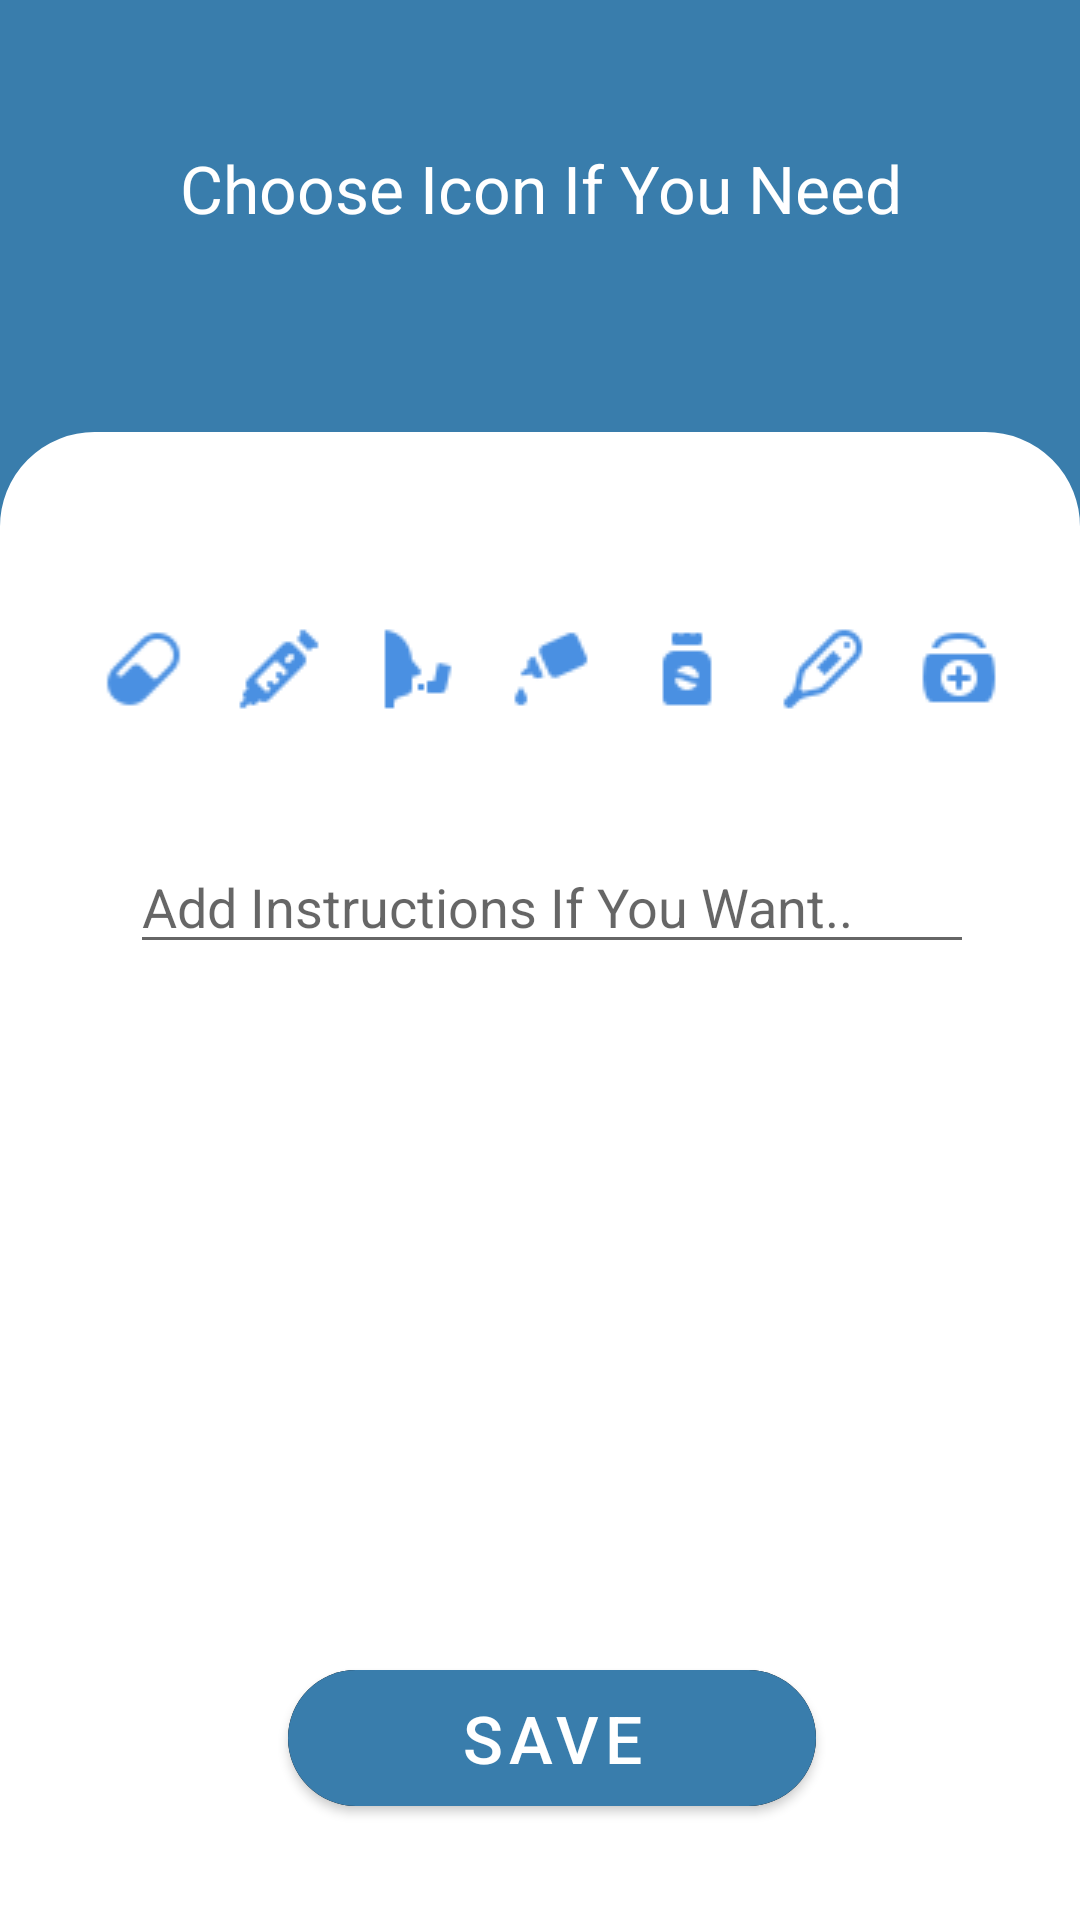

Where to tap for icons on this 1080×1920 app screen, as (x,y):
drops: (551,669)
inhaler: (418,669)
injection: (279,669)
other: (959,667)
pill: (143,669)
